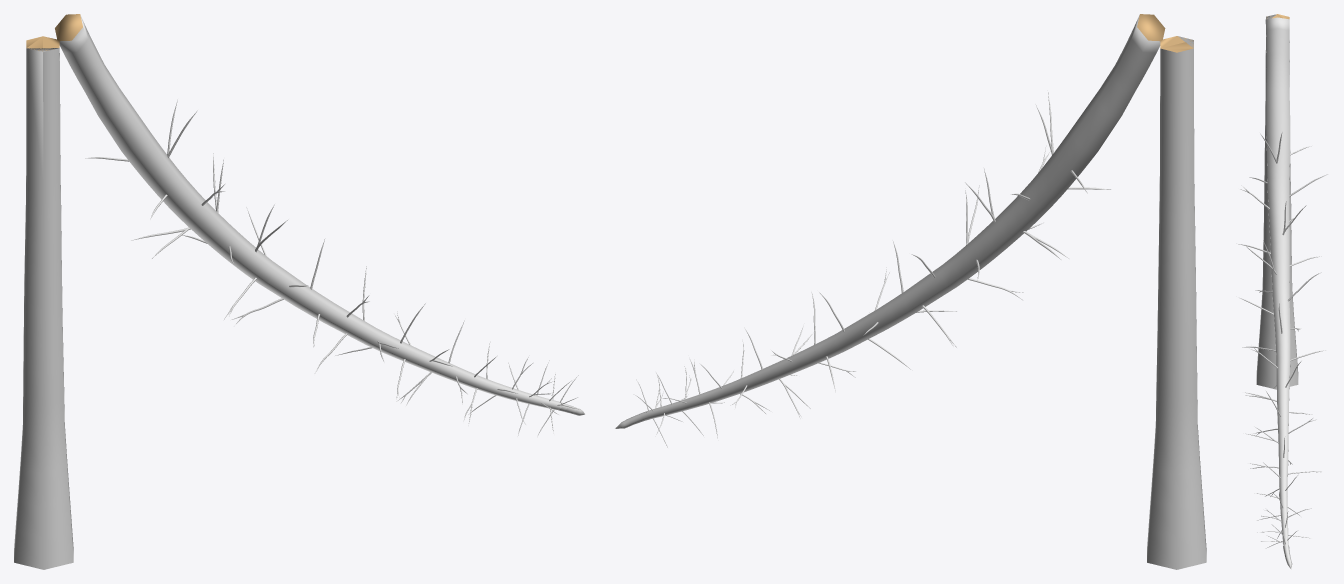
The model's file is tree_5.fbx.
3 renders of one model, left to right at view 1: azimuth 30°, elevation 25°; view 2: azimuth 150°, elevation 25°; view 3: azimuth 270°, elevation 25°, orthographic. The views are drawn at different scales.
Parts seen in each view (by area): view 1: tree_5_broken; view 2: tree_5_broken; view 3: tree_5_broken.
Part boxes in pixels (x1,y1,x2,y2): tree_5_broken: [14, 14, 585, 569]; tree_5_broken: [615, 14, 1206, 569]; tree_5_broken: [1236, 14, 1327, 569].
Size of the model in its own units: 3322 by 2968 by 661.
